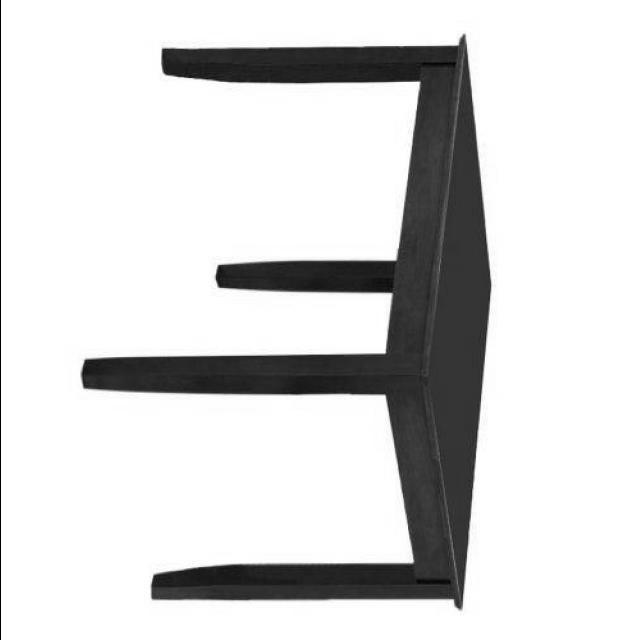table: (81, 32, 492, 612)
